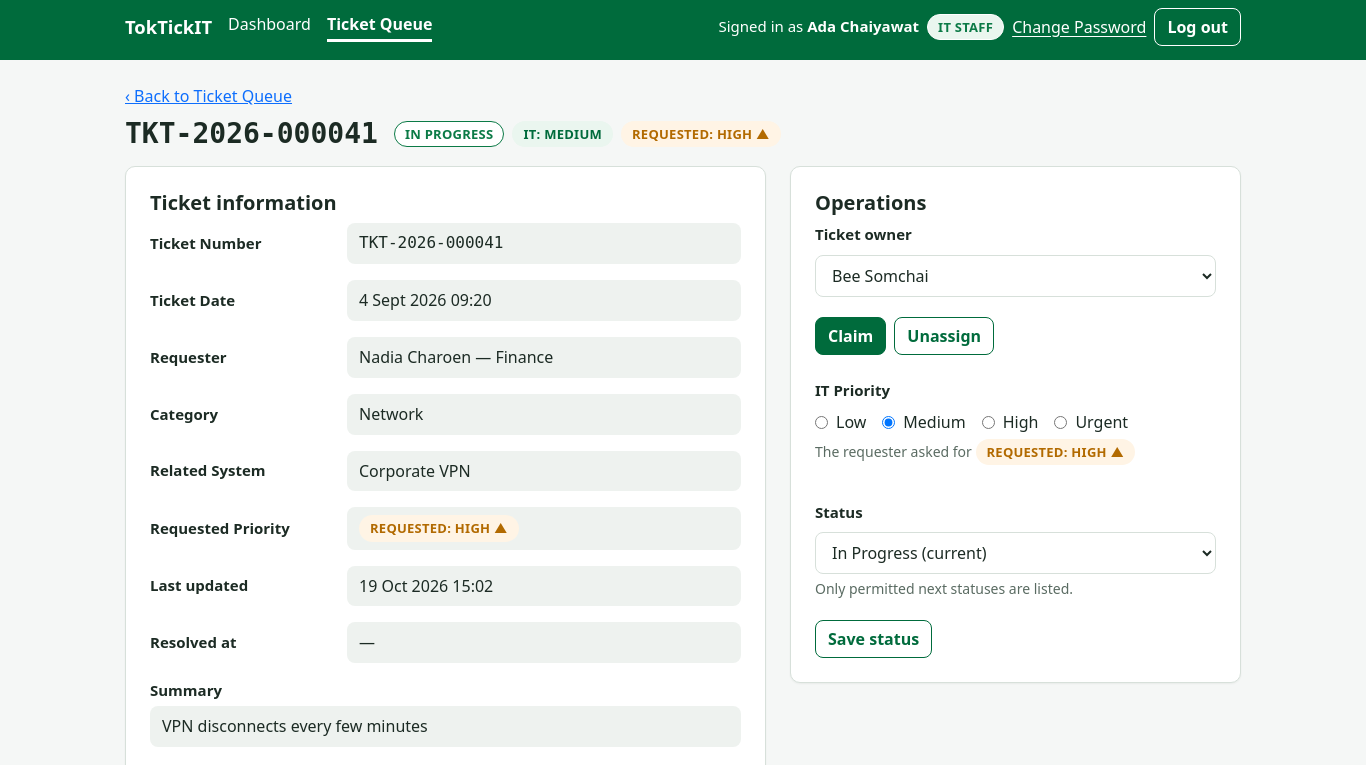
Test: UI-26 a stale Ticket write (AC-26, BR-30, ui-spec §2.6) › names a stale IT Priority attempt
This screenshot has width=1366, height=765.
Click the radio button labelled "Urgent": (1061, 422) [1054, 416, 1067, 429]
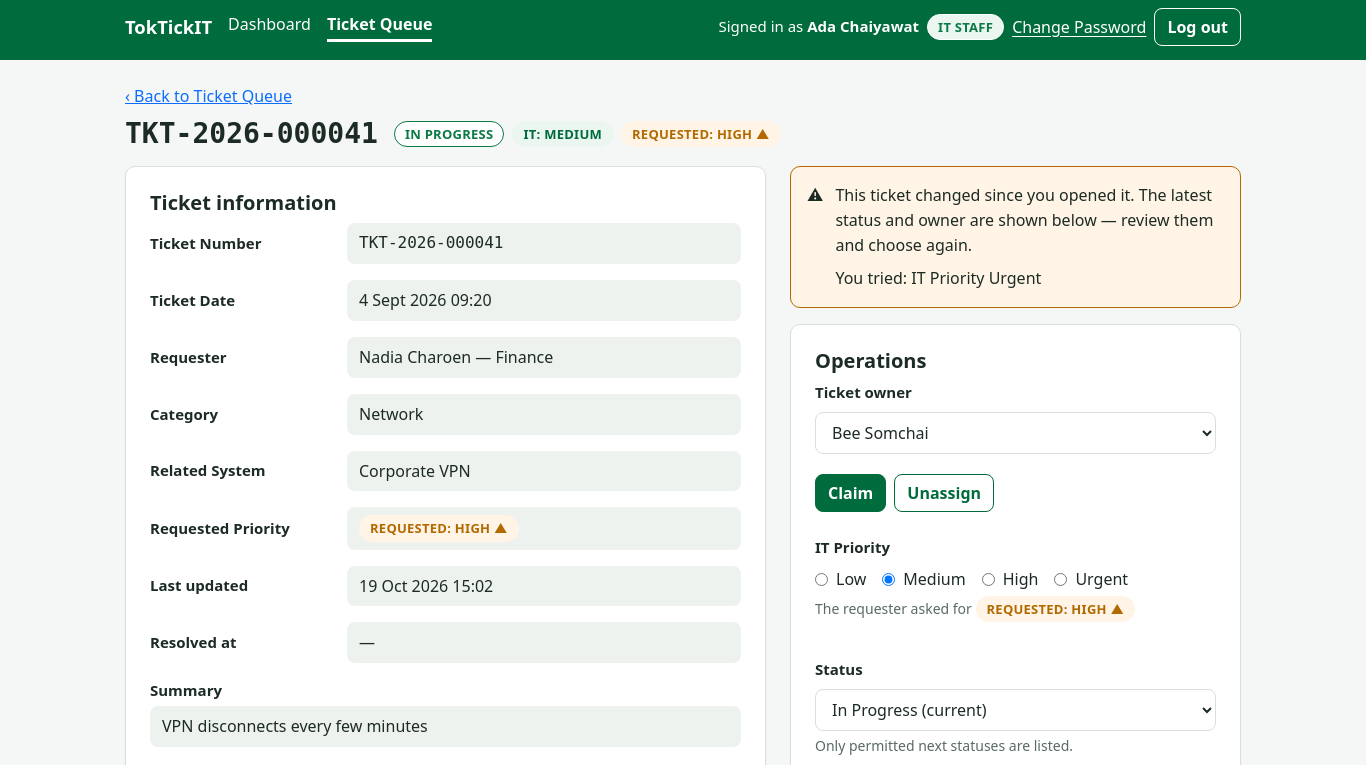
Check: the text "You tried: IT Priority Urgent" is shown, box [835, 267, 1041, 289]
